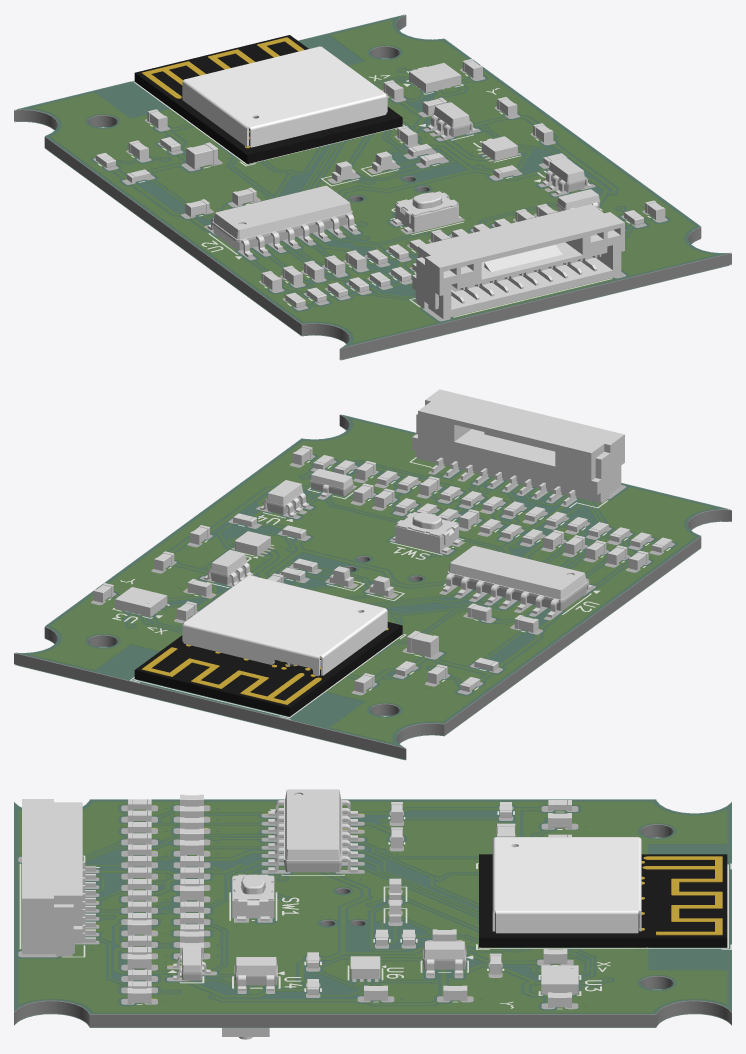
File: NIVA-pod-PCBA.glb
3 renders of one model, top to bottom at view 1: azimuth 30°, elevation 25°; view 2: azimuth 150°, elevation 25°; view 3: azimuth 270°, elevation 25°, orthographic. The views are drawn at different scales.
Parts seen in each view (by area): view 1: =>[0:1:1:20], =>[0:1:1:15], =>[0:1:1:22], J1, NAUO2, NAUO335, U2, =>[0:1:1:16], SW1, =>[0:1:1:18], NAUO374, U4 (+6 smaller); view 2: =>[0:1:1:20], =>[0:1:1:15], =>[0:1:1:22], J1, NAUO2, NAUO335, U2, =>[0:1:1:16], SW1, =>[0:1:1:18], NAUO374, U4 (+6 smaller); view 3: =>[0:1:1:20], =>[0:1:1:15], =>[0:1:1:22], NAUO2, J1, NAUO335, =>[0:1:1:16], U2, =>[0:1:1:18], NAUO374, SW1, U5 (+6 smaller).
Part boxes in pixels (x1=…): =>[0:1:1:20]: x1=14, y1=14, x2=730, y2=347; =>[0:1:1:15]: x1=33, y1=20, x2=712, y2=342; =>[0:1:1:22]: x1=14, y1=15, x2=731, y2=359; J1: x1=412, y1=204, x2=624, y2=318; NAUO2: x1=182, y1=46, x2=387, y2=147; NAUO335: x1=134, y1=35, x2=402, y2=163; U2: x1=207, y1=185, x2=357, y2=257; =>[0:1:1:16]: x1=93, y1=68, x2=667, y2=321; SW1: x1=392, y1=191, x2=461, y2=232; =>[0:1:1:18]: x1=97, y1=66, x2=650, y2=317; NAUO374: x1=142, y1=37, x2=304, y2=98; U4: x1=542, y1=157, x2=591, y2=194; =>[0:1:1:20]: x1=15, y1=414, x2=730, y2=747; =>[0:1:1:15]: x1=33, y1=420, x2=712, y2=742; =>[0:1:1:22]: x1=14, y1=415, x2=731, y2=759; J1: x1=412, y1=389, x2=624, y2=504; NAUO2: x1=182, y1=575, x2=387, y2=676; NAUO335: x1=134, y1=622, x2=402, y2=716; U2: x1=442, y1=546, x2=592, y2=617; =>[0:1:1:16]: x1=91, y1=455, x2=674, y2=695; SW1: x1=392, y1=512, x2=461, y2=553; =>[0:1:1:18]: x1=108, y1=457, x2=670, y2=719; NAUO374: x1=141, y1=647, x2=321, y2=704; U4: x1=260, y1=480, x2=309, y2=517; =>[0:1:1:20]: x1=14, y1=799, x2=731, y2=1014; =>[0:1:1:15]: x1=19, y1=802, x2=726, y2=1012; =>[0:1:1:22]: x1=14, y1=800, x2=731, y2=1027; NAUO2: x1=492, y1=837, x2=641, y2=933; J1: x1=22, y1=799, x2=95, y2=956; NAUO335: x1=479, y1=854, x2=727, y2=947; =>[0:1:1:16]: x1=18, y1=805, x2=578, y2=1009; U2: x1=268, y1=789, x2=357, y2=872; =>[0:1:1:18]: x1=19, y1=809, x2=731, y2=1009; NAUO374: x1=645, y1=856, x2=722, y2=935; SW1: x1=232, y1=874, x2=274, y2=920; U5: x1=423, y1=941, x2=466, y2=975.
Size of the model in its own units: 0.034 by 0.00832 by 0.048.
